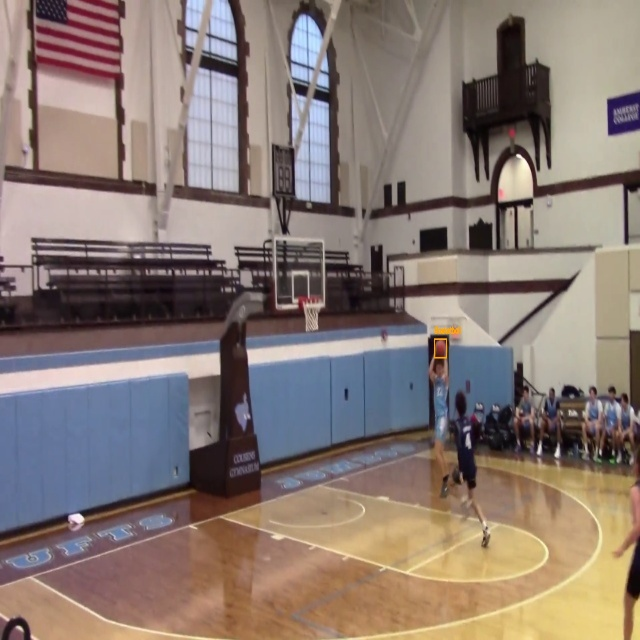Basketball: (434, 339, 447, 358)
